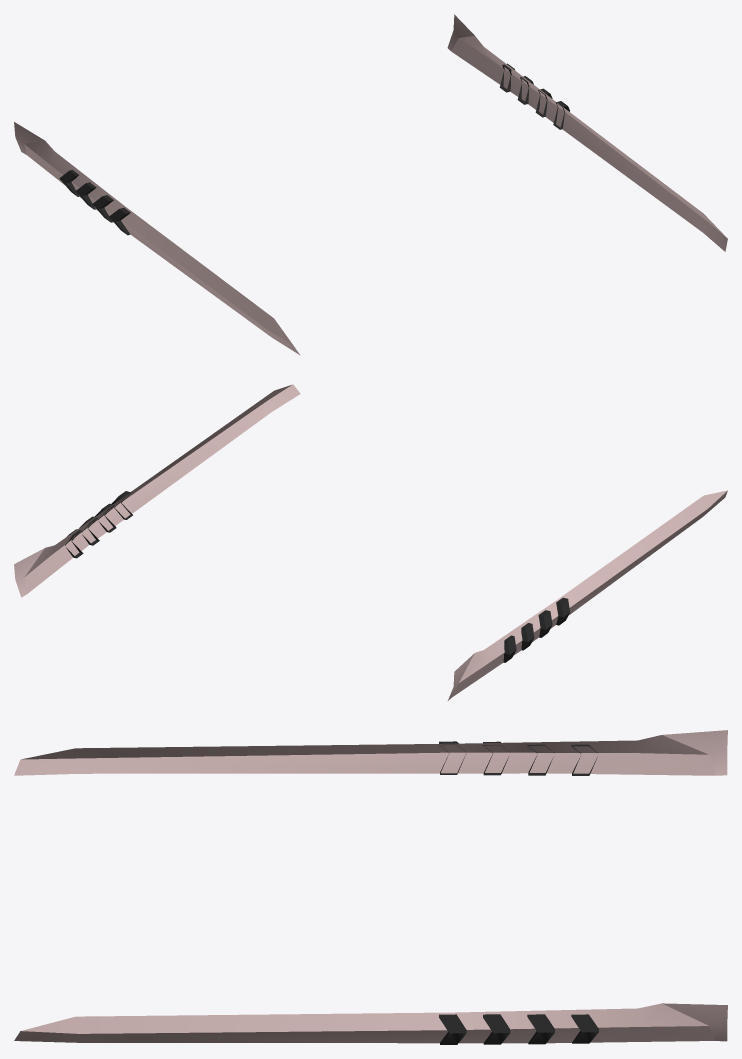
The model's file is Classic_14_SidePanel_2.fbx.
3 renders of one model, top to bottom at view 1: azimuth 30°, elevation 25°; view 2: azimuth 150°, elevation 25°; view 3: azimuth 270°, elevation 25°, orthographic. The views are drawn at different scales.
Visible parts, largest first — view 1: Classic_14_SidePanel_2; view 2: Classic_14_SidePanel_2; view 3: Classic_14_SidePanel_2.
Boxes of the visible parts, x1=… form: Classic_14_SidePanel_2: x1=14, y1=14, x2=727, y2=355; Classic_14_SidePanel_2: x1=14, y1=384, x2=727, y2=700; Classic_14_SidePanel_2: x1=14, y1=730, x2=727, y2=1044.
Bounding box in the file's own units: 207 × 13.89 × 220.
